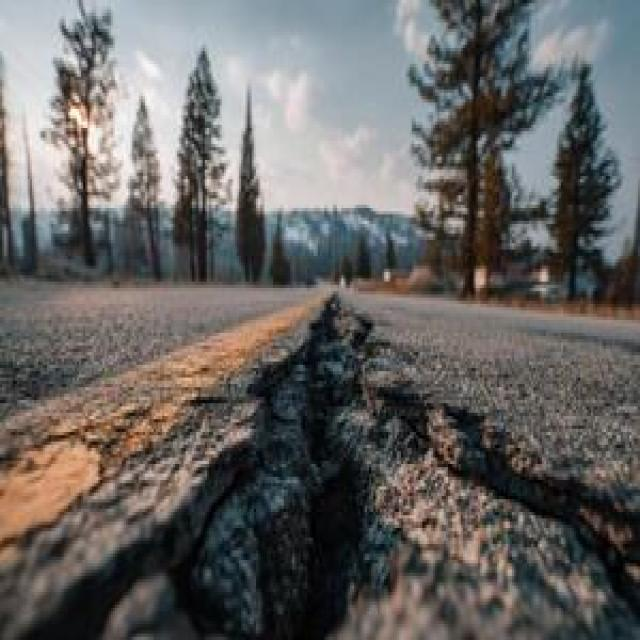road collapse: (51, 181, 640, 640)
